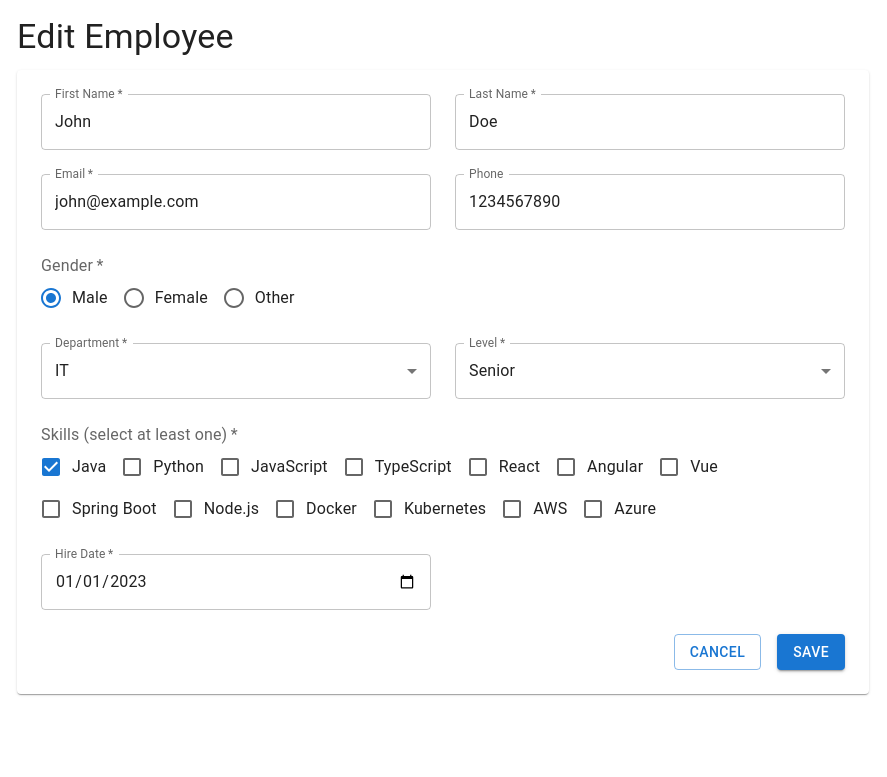
Test: EmployeeFormPage › should show generic error message when update fails without response data
Expected: the heading "Edit Employee" is shown, [17,16,234,56]
Expected: the field showing "John" is shown, [41,94,431,150]
Submit the form
Click the button "Save": click(811, 652) [777,634,845,670]
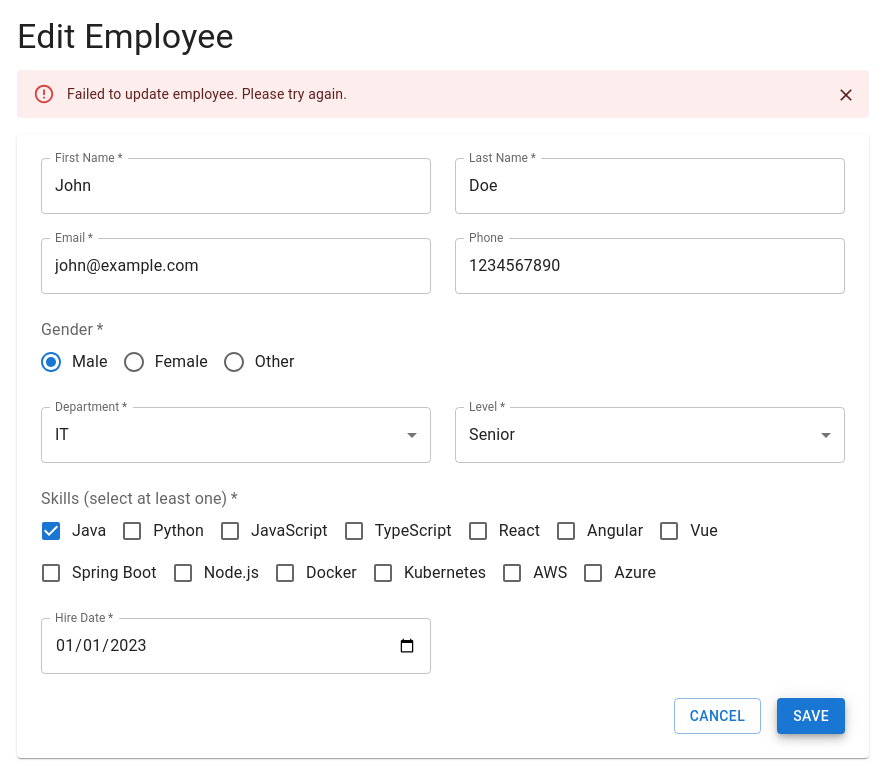
Now the text "Failed to update employee. Please try again." is shown, box [67,86,347,102]
